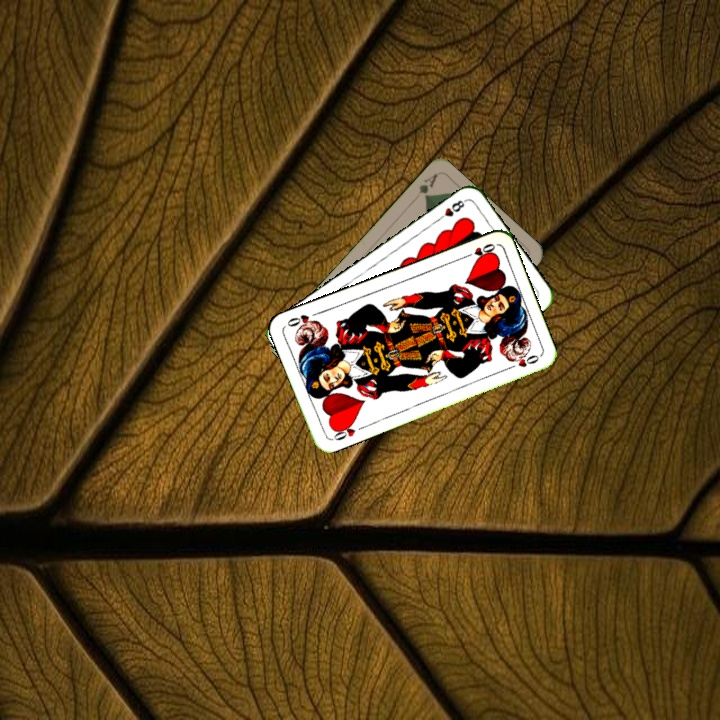GA: (415, 170, 440, 201)
H8: (433, 195, 469, 224)
HO: (459, 239, 498, 261), (328, 418, 358, 443)
